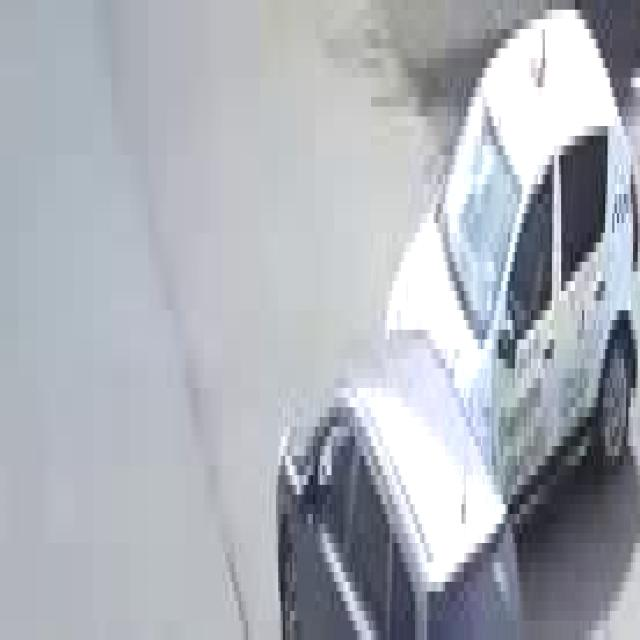accident: (274, 8, 640, 640)
